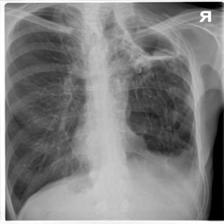tuberculosis: (5, 3, 206, 224)
